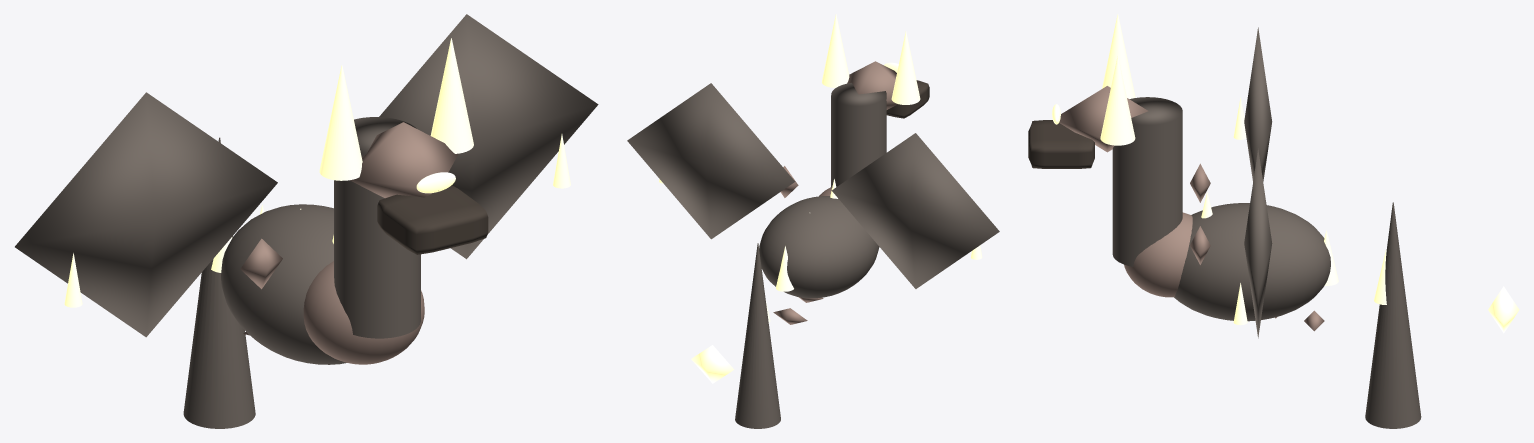
Rendered from small-dragon.glb.
3 views of the same model, side by side, from view 1: azimuth 30°, elevation 25°; view 2: azimuth 150°, elevation 25°; view 3: azimuth 270°, elevation 25° (orthographic). The views are drawn at different scales.
Visible parts, largest first — view 1: wing-1, wing1, body, neck, tail, jaw, head, chest, horn-1, horn1, ShoulderScale-1, eyes (+2 smaller); view 2: wing1, wing-1, body, tail, neck, head, horn-1, horn1, tailSpade, jaw, DorsalSpine3; view 3: body, neck, tail, chest, wing1, jaw, wing-1, head, horn1, horn-1, tailSpade.
Part boxes in pixels (bbox=[...]): wing-1: bbox=[15, 92, 277, 337]; wing1: bbox=[379, 14, 598, 259]; body: bbox=[221, 204, 346, 364]; neck: bbox=[334, 117, 420, 338]; tail: bbox=[183, 137, 255, 428]; jaw: bbox=[377, 185, 488, 254]; head: bbox=[350, 122, 458, 198]; chest: bbox=[303, 261, 424, 364]; horn-1: bbox=[319, 65, 362, 180]; horn1: bbox=[430, 38, 473, 153]; ShoulderScale-1: bbox=[240, 238, 282, 289]; eyes: bbox=[416, 172, 455, 193]; wing1: bbox=[627, 83, 795, 239]; wing-1: bbox=[831, 133, 999, 288]; body: bbox=[759, 196, 879, 298]; tail: bbox=[735, 243, 780, 428]; neck: bbox=[831, 82, 886, 187]; head: bbox=[847, 61, 897, 109]; horn-1: bbox=[891, 31, 920, 104]; horn1: bbox=[822, 14, 849, 87]; tailSpade: bbox=[691, 345, 734, 383]; jaw: bbox=[886, 80, 929, 118]; DorsalSpine3: bbox=[776, 246, 793, 291]; body: bbox=[1174, 203, 1330, 321]; neck: bbox=[1112, 97, 1182, 266]; tail: bbox=[1365, 202, 1421, 428]; chest: bbox=[1124, 212, 1192, 297]; wing1: bbox=[1244, 148, 1272, 338]; jaw: bbox=[1028, 120, 1094, 168]; wing-1: bbox=[1244, 27, 1272, 181]; head: bbox=[1059, 86, 1148, 152]; horn1: bbox=[1100, 56, 1135, 145]; horn-1: bbox=[1102, 14, 1135, 98]; tailSpade: bbox=[1488, 286, 1519, 333].
Bounding box in the file's own units: 2.99 × 2.4 × 2.8.
